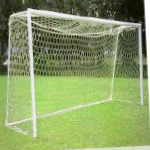goals: (5, 6, 145, 135)
